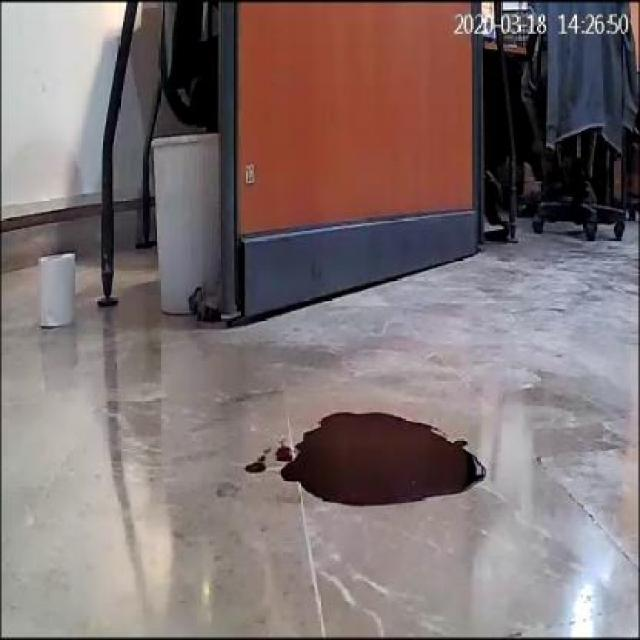spill: (280, 410, 486, 507)
